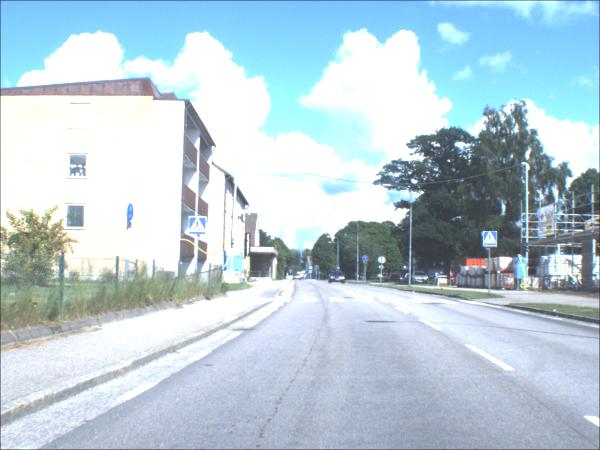PASS_RIGHT_SIDE: (309, 271, 313, 275)
PEDESTRIAN_CROSSING: (189, 218, 207, 236), (483, 233, 498, 249), (309, 267, 313, 271)
